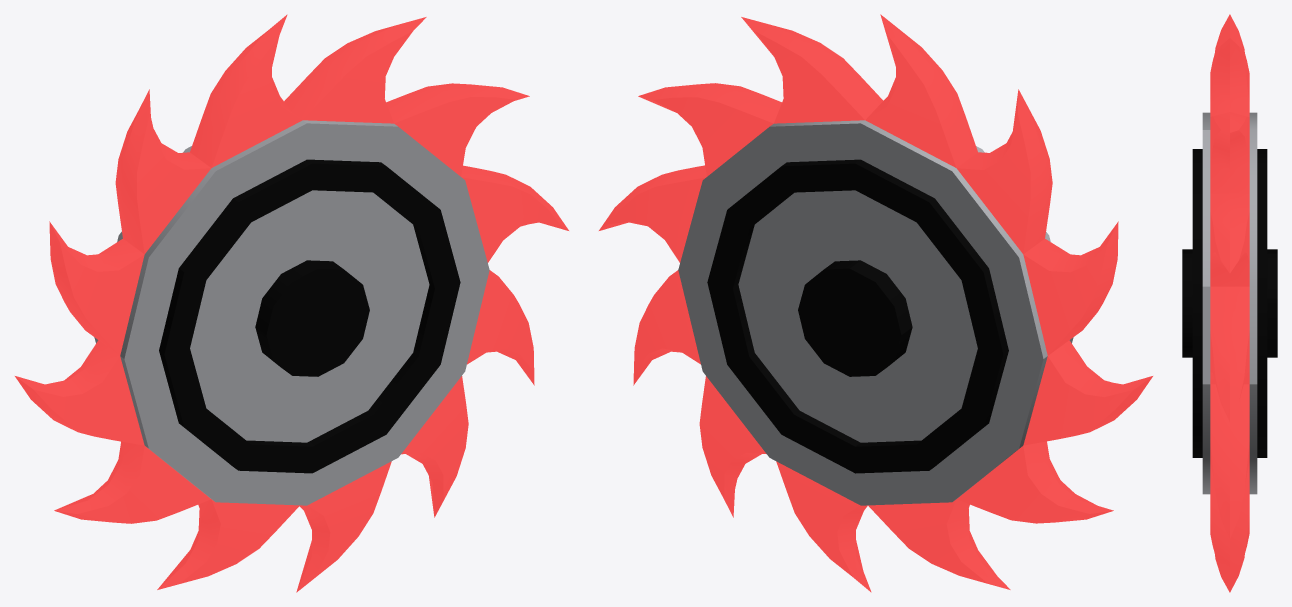
The model's file is messierra.fbx.
3 views of the same model, side by side, from view 1: azimuth 30°, elevation 25°; view 2: azimuth 150°, elevation 25°; view 3: azimuth 270°, elevation 25° (orthographic). The views are drawn at different scales.
Parts seen in each view (by area): view 1: Circle; view 2: Circle; view 3: Circle.
Boxes of the visible parts, x1,y1,x2,y2 form: Circle: (15,14,568,592); Circle: (599,14,1152,592); Circle: (1182,14,1277,592).
Size of the model in its own units: 304 by 304 by 49.8.
